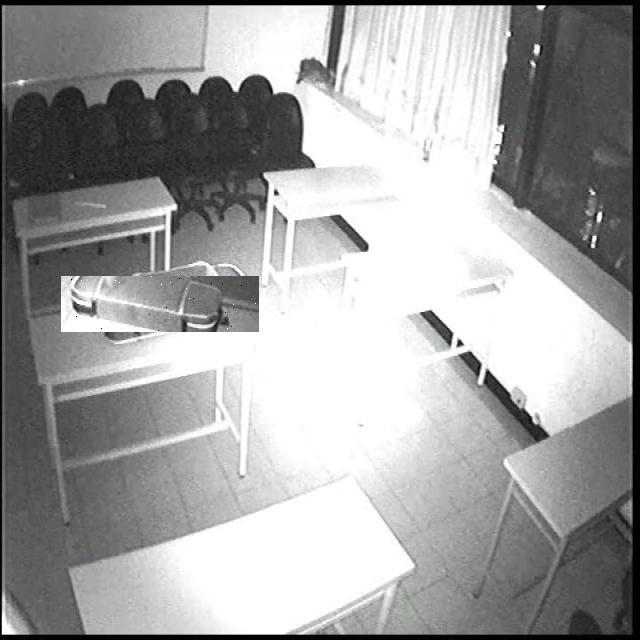abandoned-object: (61, 276, 262, 332)
